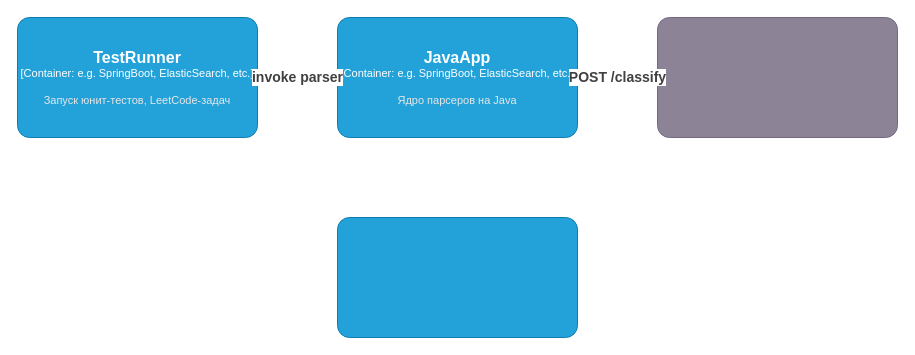
Image size: 915x355. Some labels were removed from this diagram. Each missing label, with the centre of its shape:
"GoPort (future) [Container: Library Stub] Заглушка для будущего порта на Go" belongs at point (457, 277).
"ML Mock [Software System] Мок эндпоинта /classify" belongs at point (777, 77).
